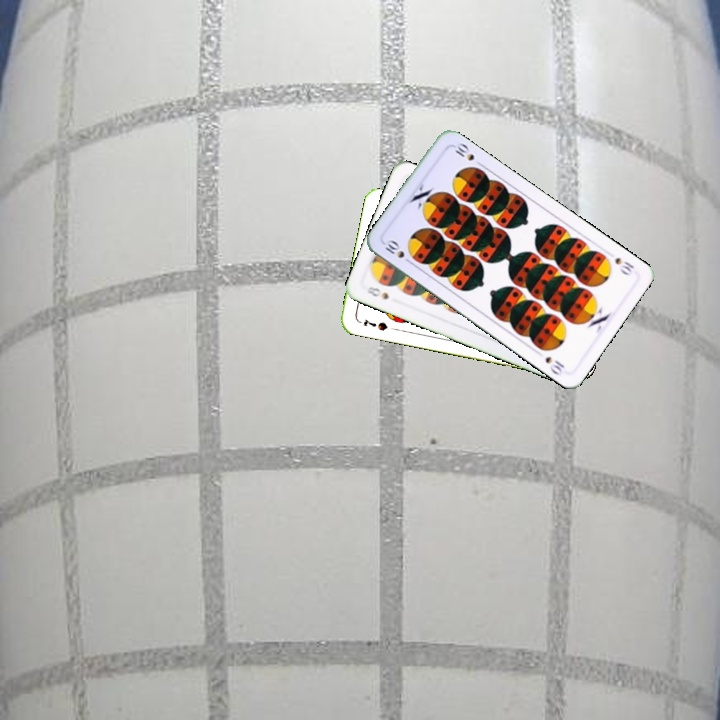S10: (381, 236, 415, 267), (611, 253, 637, 278)
S7: (359, 315, 390, 333)
S8: (363, 282, 391, 302)
